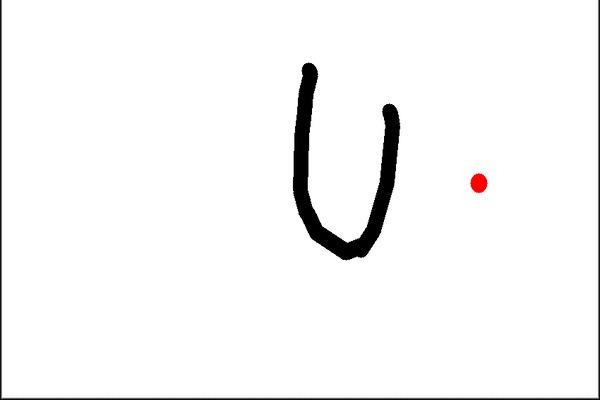U: (272, 57, 409, 265)
